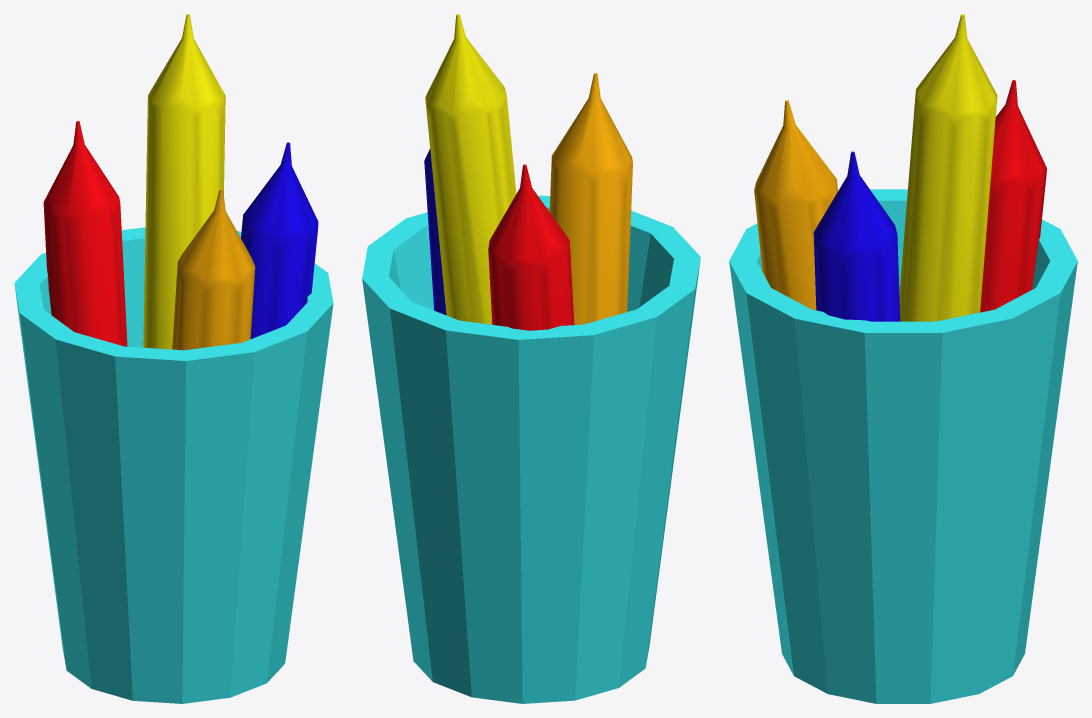
Rendered from handles.fbx.
3 views of the same model, side by side, from view 1: azimuth 30°, elevation 25°; view 2: azimuth 150°, elevation 25°; view 3: azimuth 270°, elevation 25° (orthographic). The views are drawn at different scales.
Visible parts, largest first — view 1: handles; view 2: handles; view 3: handles.
Part boxes in pixels (<box>): handles: <box>14,14,333,703</box>; handles: <box>362,14,700,703</box>; handles: <box>729,14,1077,703</box>.
Bounding box in the file's own units: 6.42 × 13.77 × 6.58.
